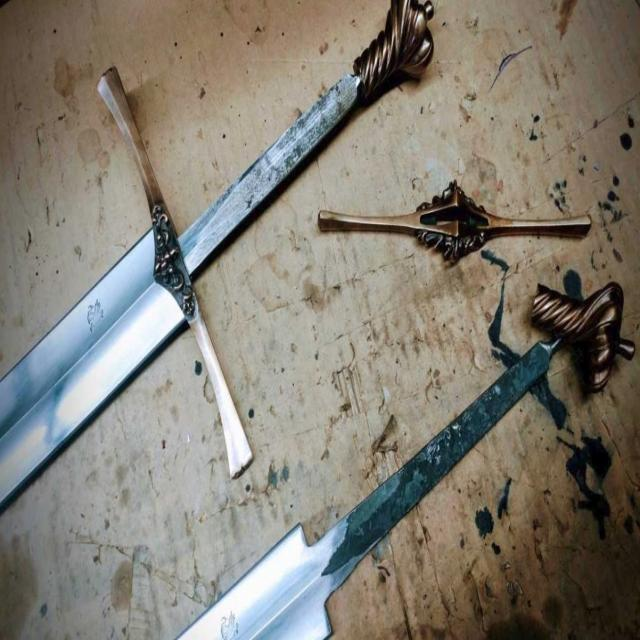sword: (1, 1, 438, 521)
